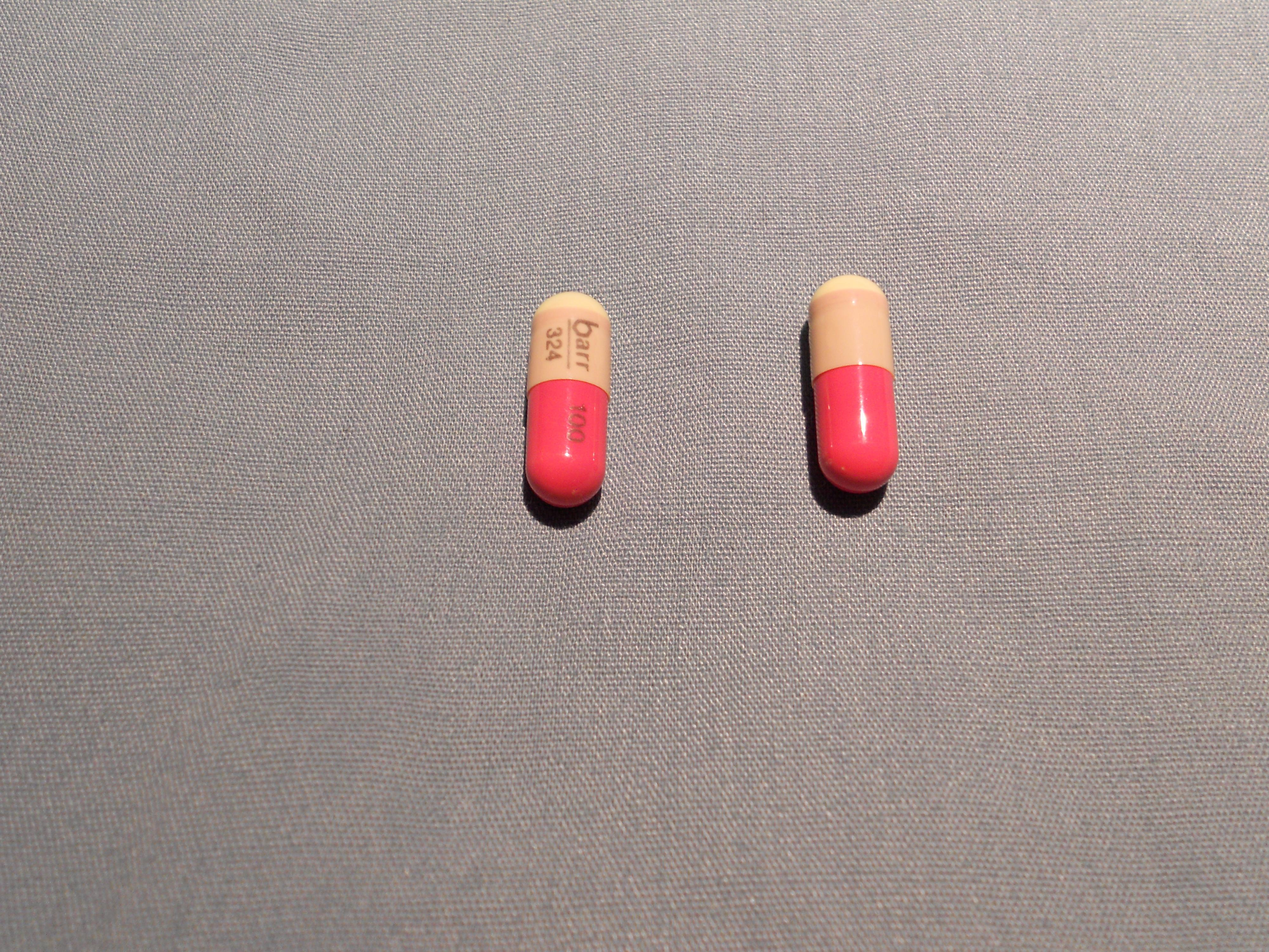Pill: (809, 275, 898, 495), (524, 292, 611, 509)
